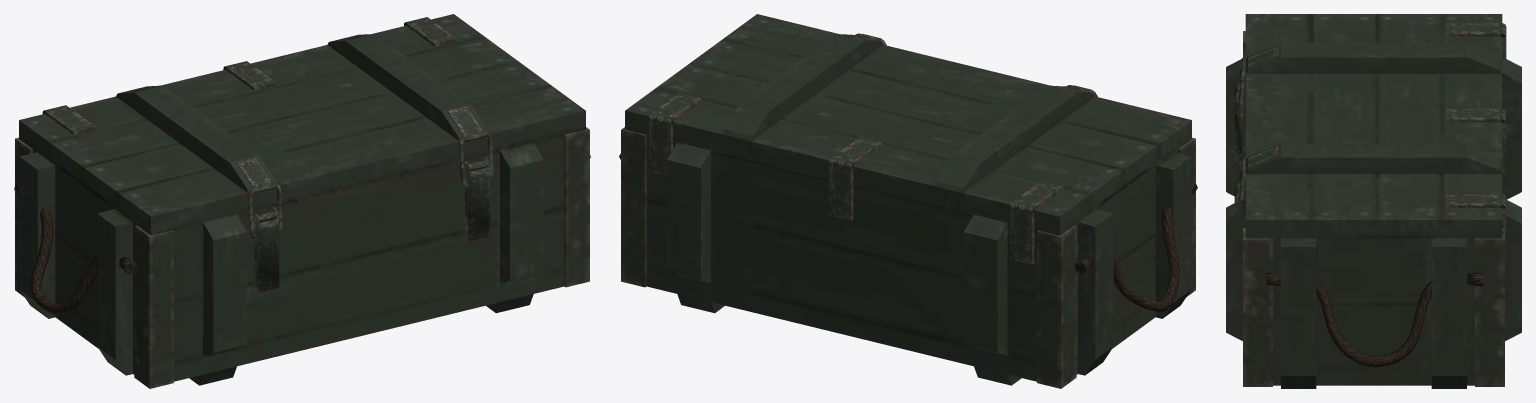
File: item-ammo.glb
3 views of the same model, side by side, from view 1: azimuth 30°, elevation 25°; view 2: azimuth 150°, elevation 25°; view 3: azimuth 270°, elevation 25° (orthographic). The views are drawn at different scales.
Visible parts, largest first — view 1: Cube_Material_0; view 2: Cube_Material_0; view 3: Cube_Material_0.
Part boxes in pixels (x1=…): Cube_Material_0: x1=14, y1=14, x2=590, y2=388; Cube_Material_0: x1=619, y1=14, x2=1197, y2=388; Cube_Material_0: x1=1226, y1=14, x2=1521, y2=388.
Size of the model in its own units: 0.55 by 0.2022 by 0.2769.
Materials: 1 (1 with a texture image).
